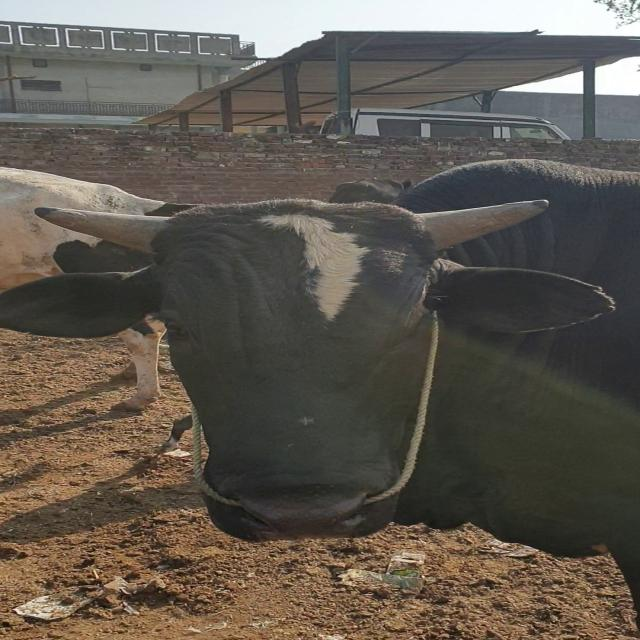cowFace: (141, 191, 447, 548)
